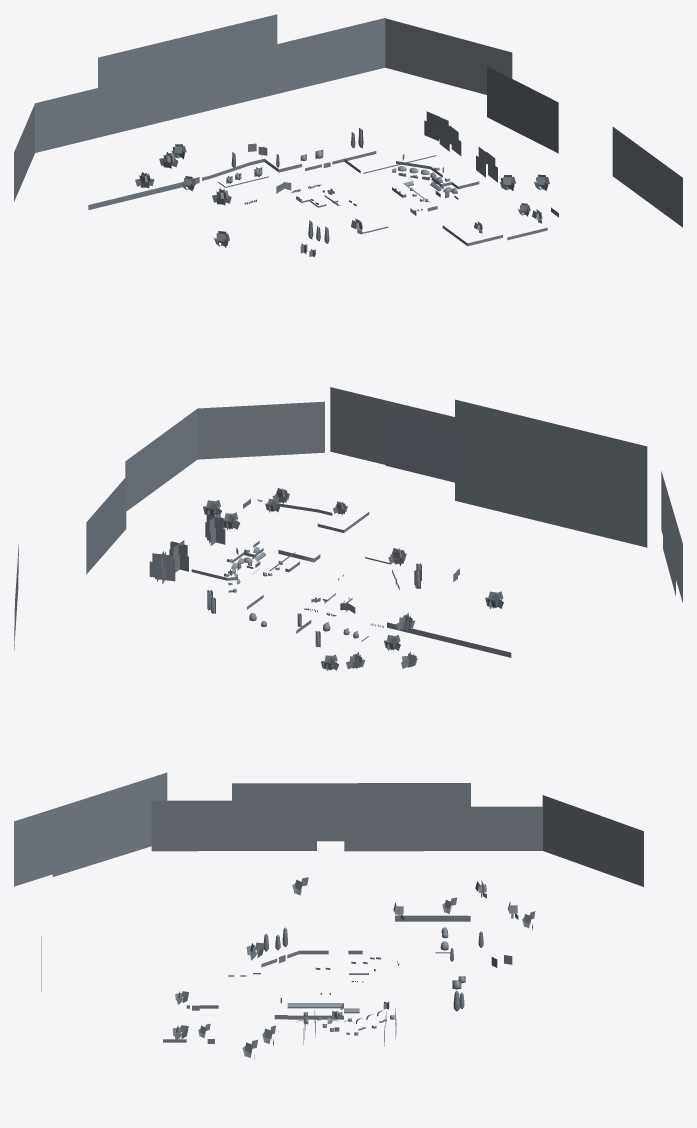
Rendered from gltf__Models__map__Village__byway__byway_mergedAlpha_oneMesh.glb.
3 renders of one model, top to bottom at view 1: azimuth 30°, elevation 25°; view 2: azimuth 150°, elevation 25°; view 3: azimuth 270°, elevation 25°, orthographic. The views are drawn at different scales.
Parts seen in each view (by area): view 1: byway_mergedAlpha; view 2: byway_mergedAlpha; view 3: byway_mergedAlpha.
Boxes of the visible parts, x1,y1,x2,y2 form: byway_mergedAlpha: (14,14,682,257); byway_mergedAlpha: (14,387,682,670); byway_mergedAlpha: (14,772,643,1059).
Bounding box in the file's own units: 166 × 32.18 × 171.
1 material, 1 textured.
